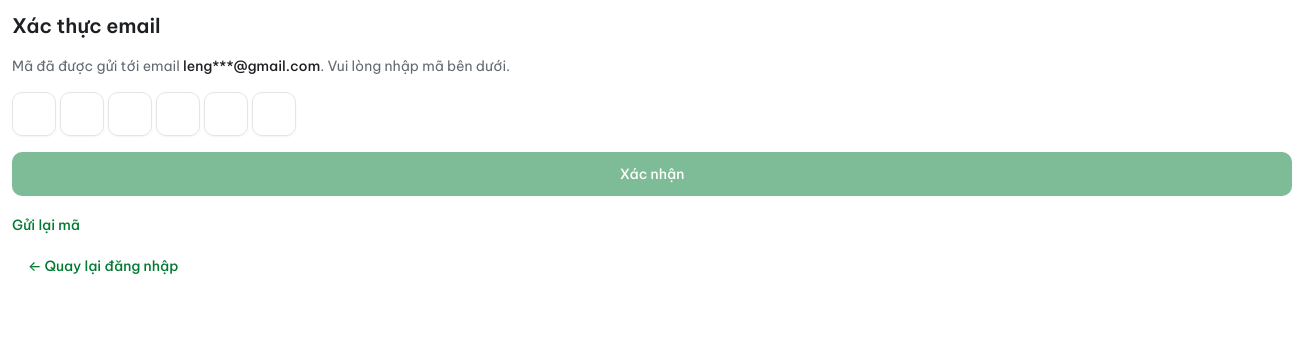
Test: EmailOtpStep › resends a fresh code
The width and height of the screenshot is (1304, 347).
Click the button "Gửi lại mã" at {"x": 46, "y": 225}, box [12,215,80,235]
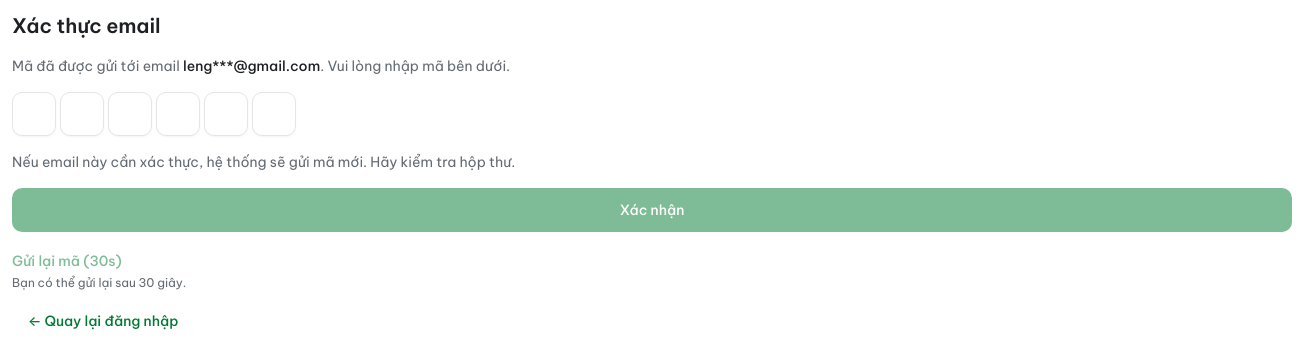
Now the text "Nếu email này cần xác thực, hệ thống sẽ gửi mã mới. Hãy kiểm tra hộp thư." is shown, box [12,153,515,171]
